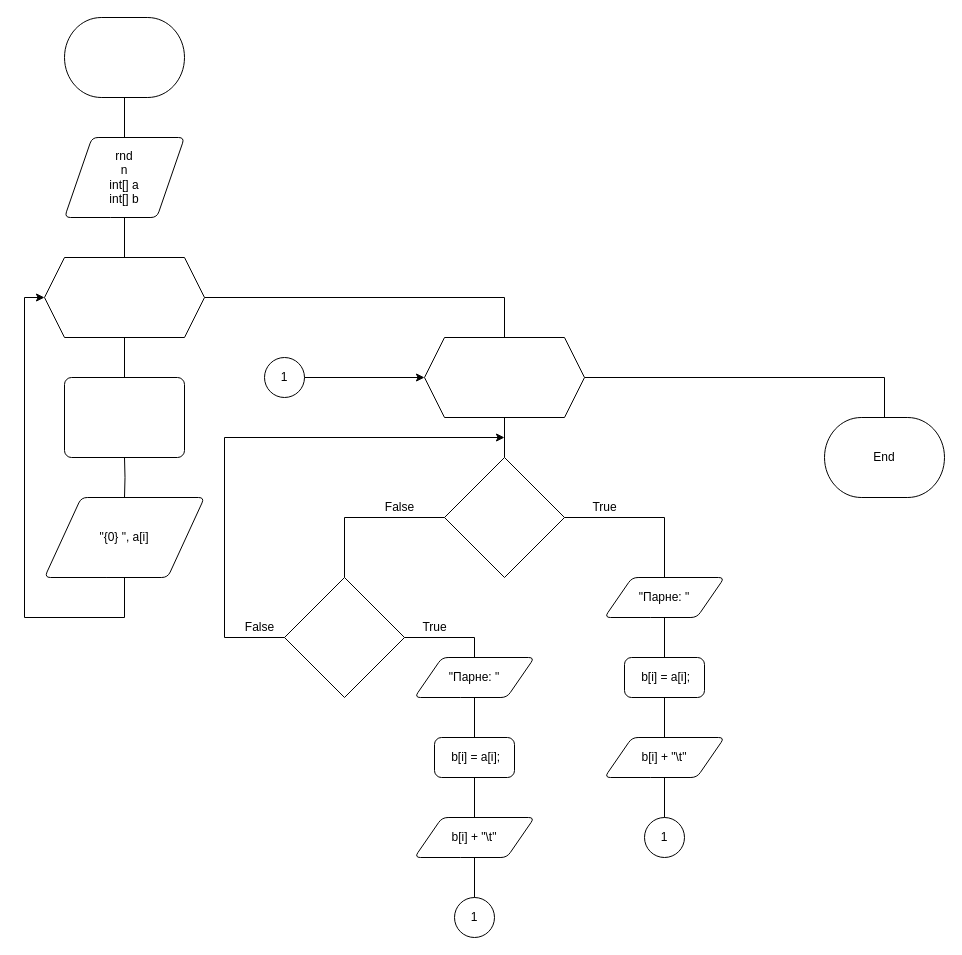
This 962x955 diagram has some shape labels left out. Here are the shapes that lost their labels. From the top down, the centre of each, then its label:
At pixel 124 57: "Start".
At pixel 124 297: "int i = 0; i < n; i++".
At pixel 504 377: "int i = 0; i < a.Length ; i++".
At pixel 124 417: "a[i] = rnd.Next(0, 50);".
At pixel 504 517: "a[i] % 2 == 0".
At pixel 344 637: "a[i] % 2 != 0".
